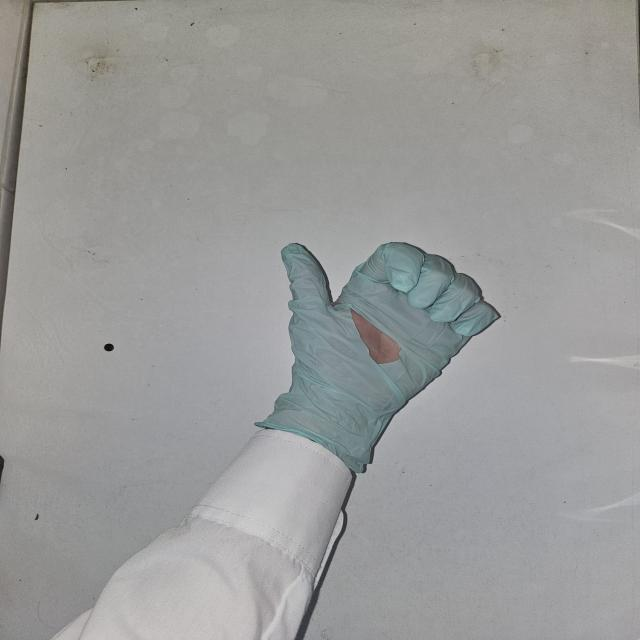gloves_damaged: (260, 240, 506, 475)
